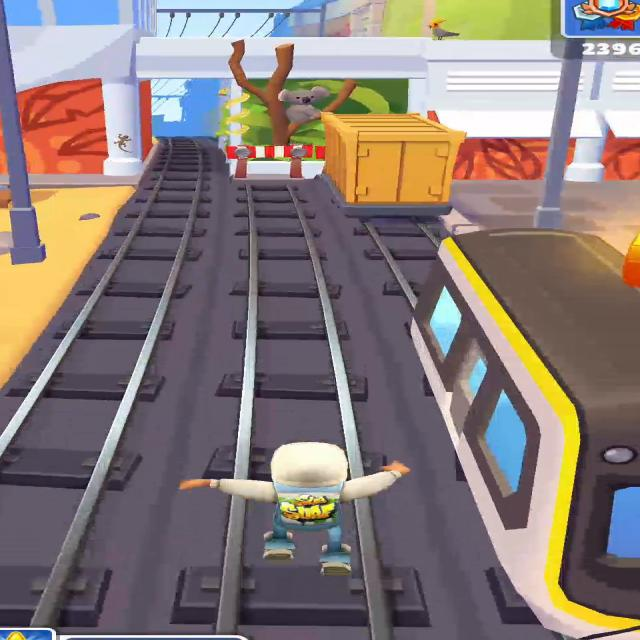block pillar: (217, 41, 357, 179)
train: (425, 216, 632, 638), (407, 238, 624, 637), (322, 113, 465, 217)
